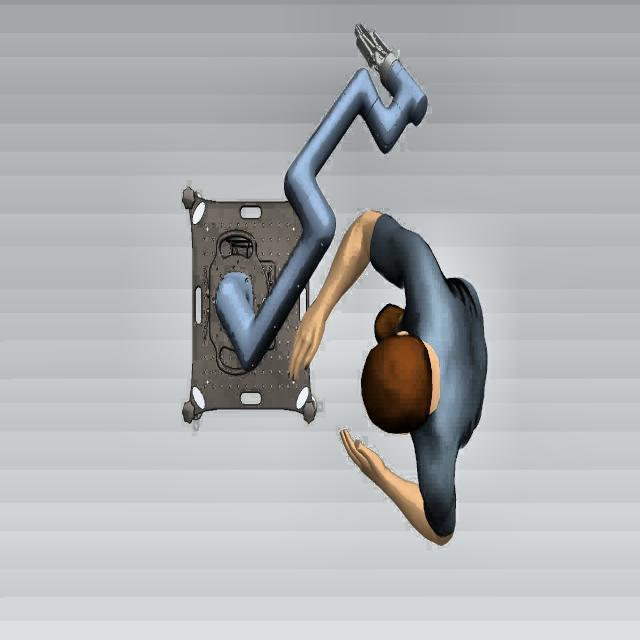robot: (210, 7, 435, 379)
